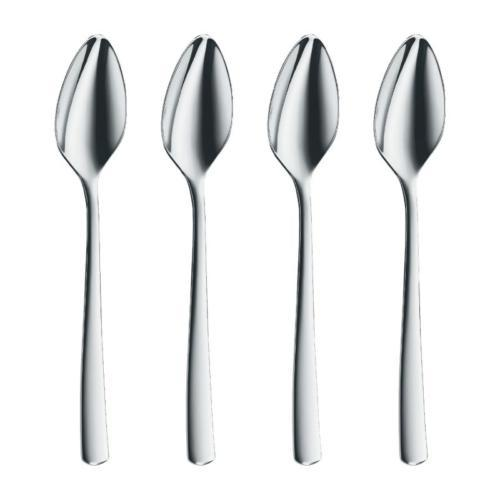Spoon: (373, 33, 446, 466), (160, 34, 233, 466), (267, 34, 340, 466), (54, 34, 127, 465)
